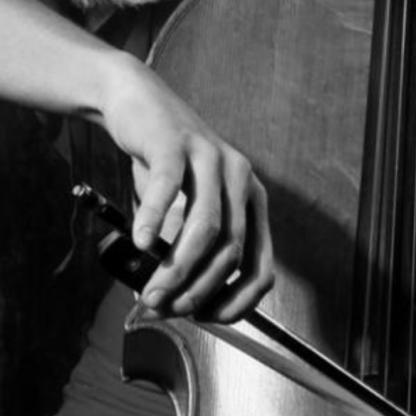good: (109, 111, 285, 333)
